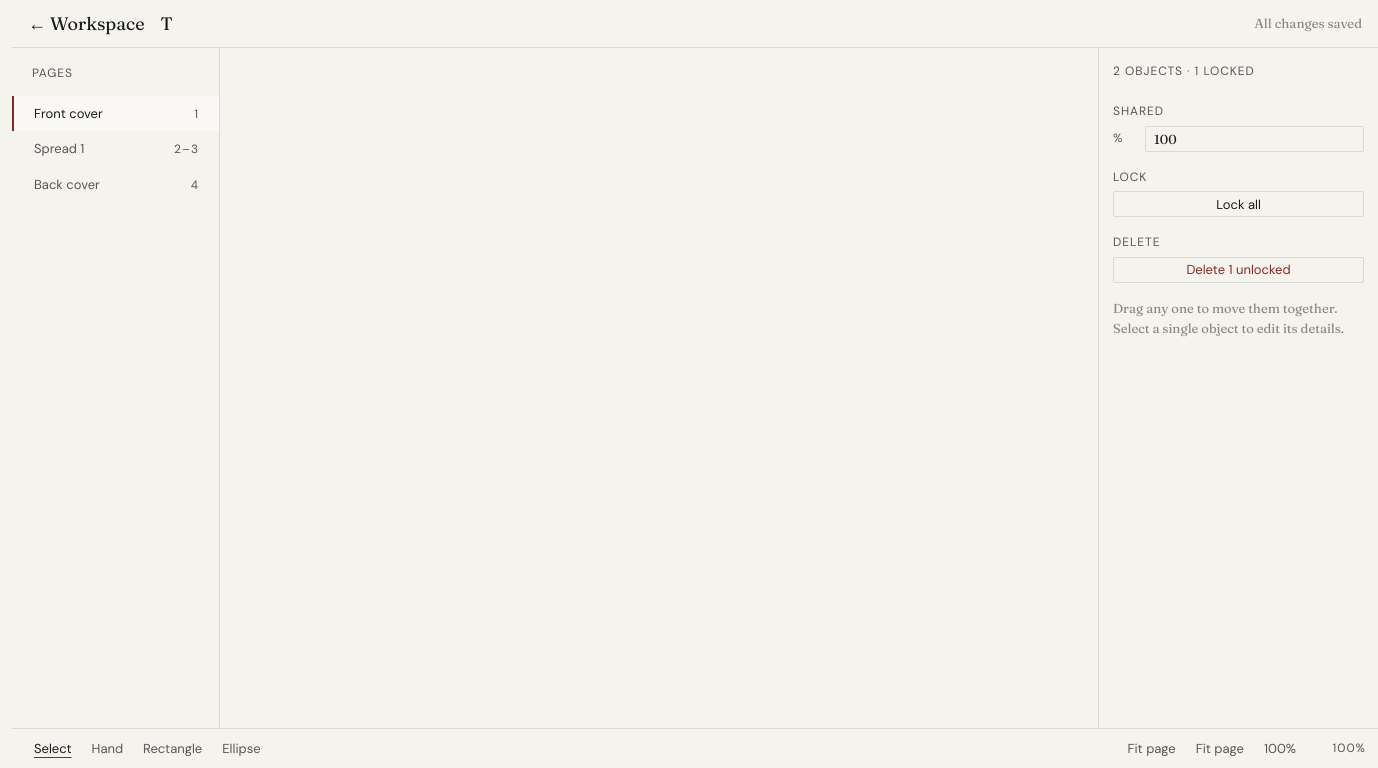
multi-object inspector (#5, #18) › delete button: names how many unlocked go, removes those only, and says so
The image size is (1378, 768).
Click the button with test id "delete-selection": (1238, 270) [1113,257,1364,283]
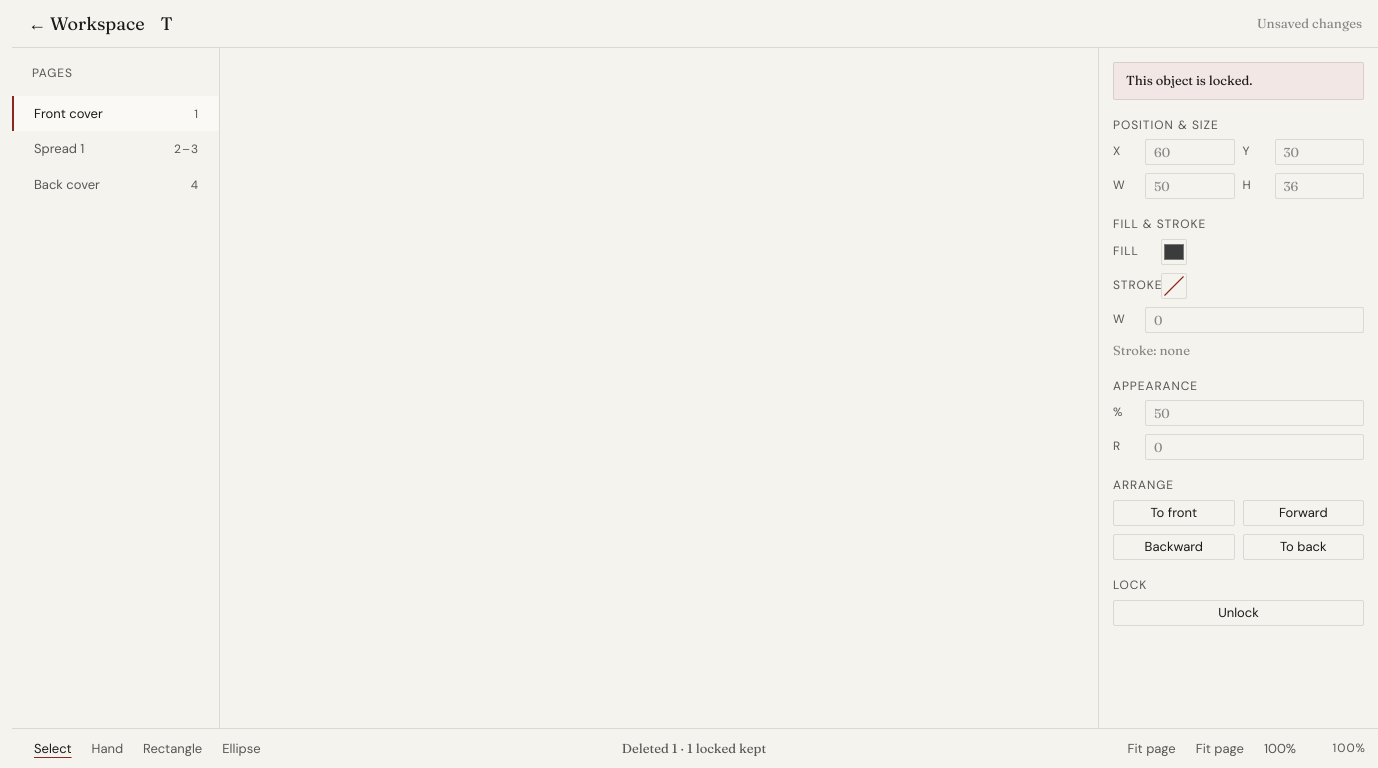
Now the message with test id "editor-announcement" reads "Deleted 1 · 1 locked kept", box [622,740,766,756]
